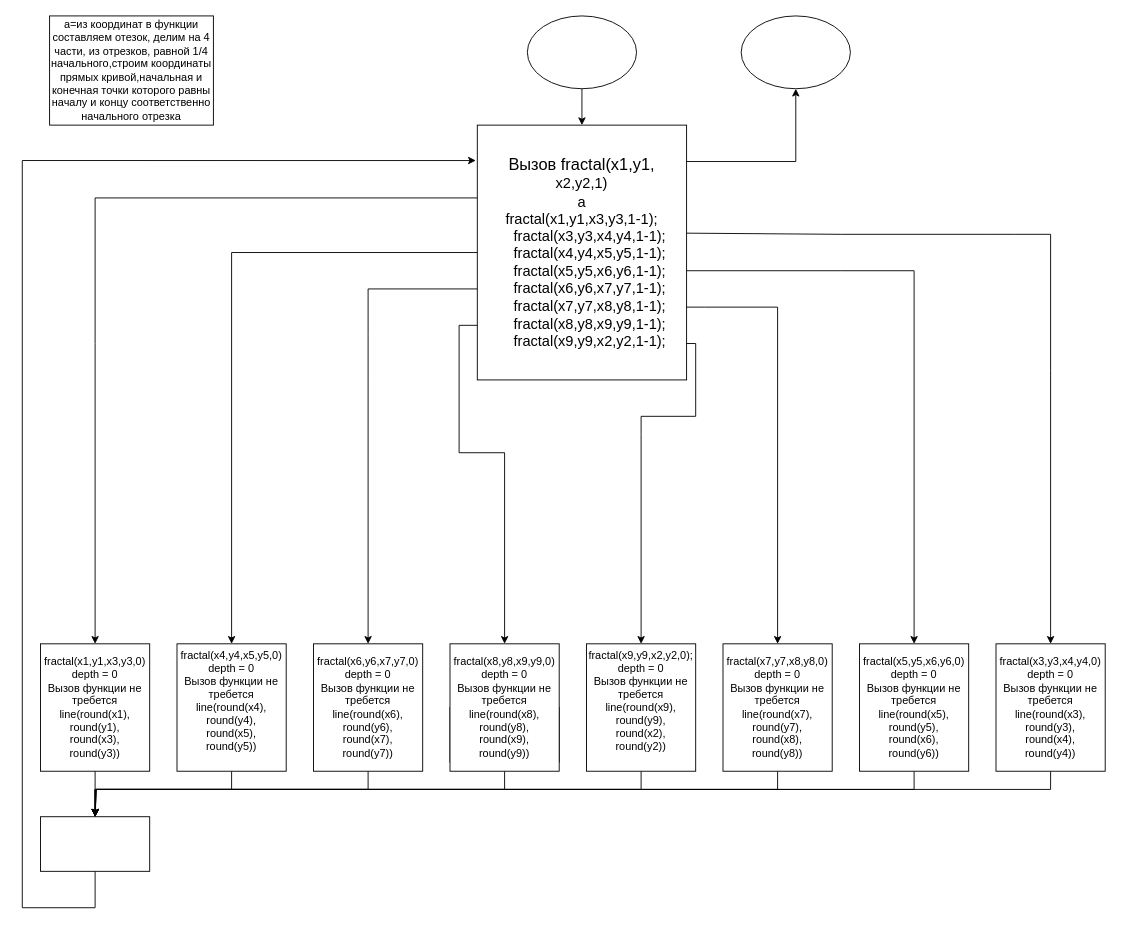
The diagram is 1121 pixels wide and 931 high, and some of its shapes have lost their labels. The centre of each missing label's shape, as x and y in pixels:
"Конец" goes at (x=795, y=52).
"начало" goes at (x=581, y=52).
